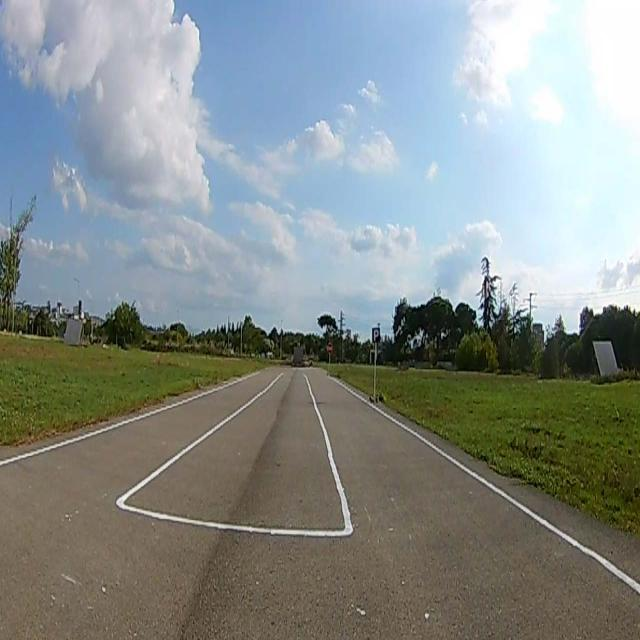park: (372, 327, 380, 341)
